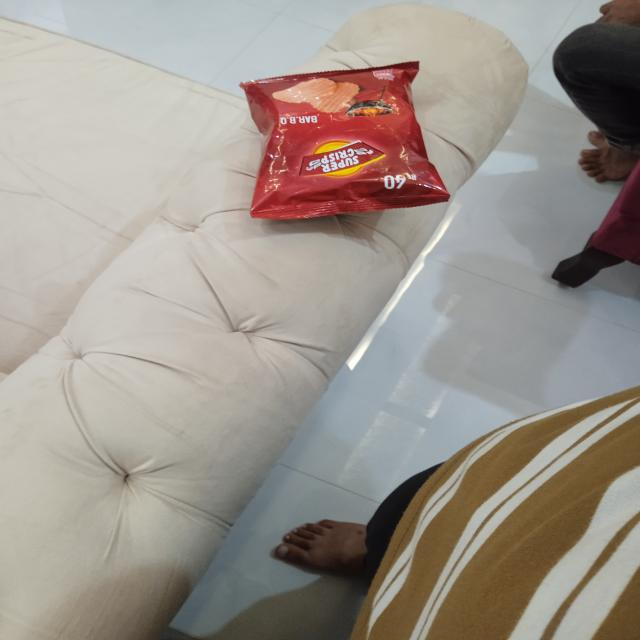Plastic: (236, 60, 457, 225)
